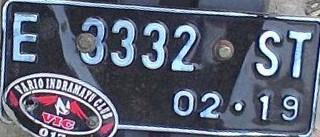2: (168, 20, 202, 74)
3: (134, 19, 170, 72), (71, 17, 108, 66), (106, 17, 138, 68)
E: (8, 10, 44, 70)
S: (244, 30, 288, 80)
T: (282, 30, 314, 81)
